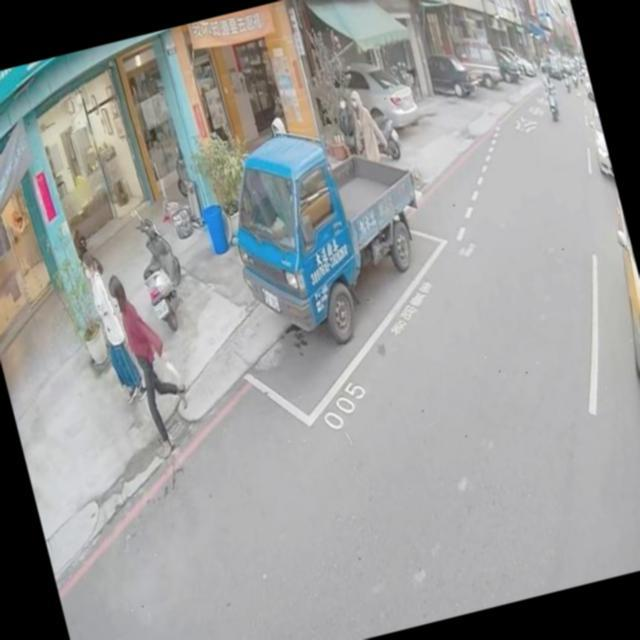person: (102, 260, 203, 466), (76, 240, 148, 407), (339, 85, 392, 167), (330, 89, 364, 158), (264, 105, 290, 144), (542, 75, 554, 92)
